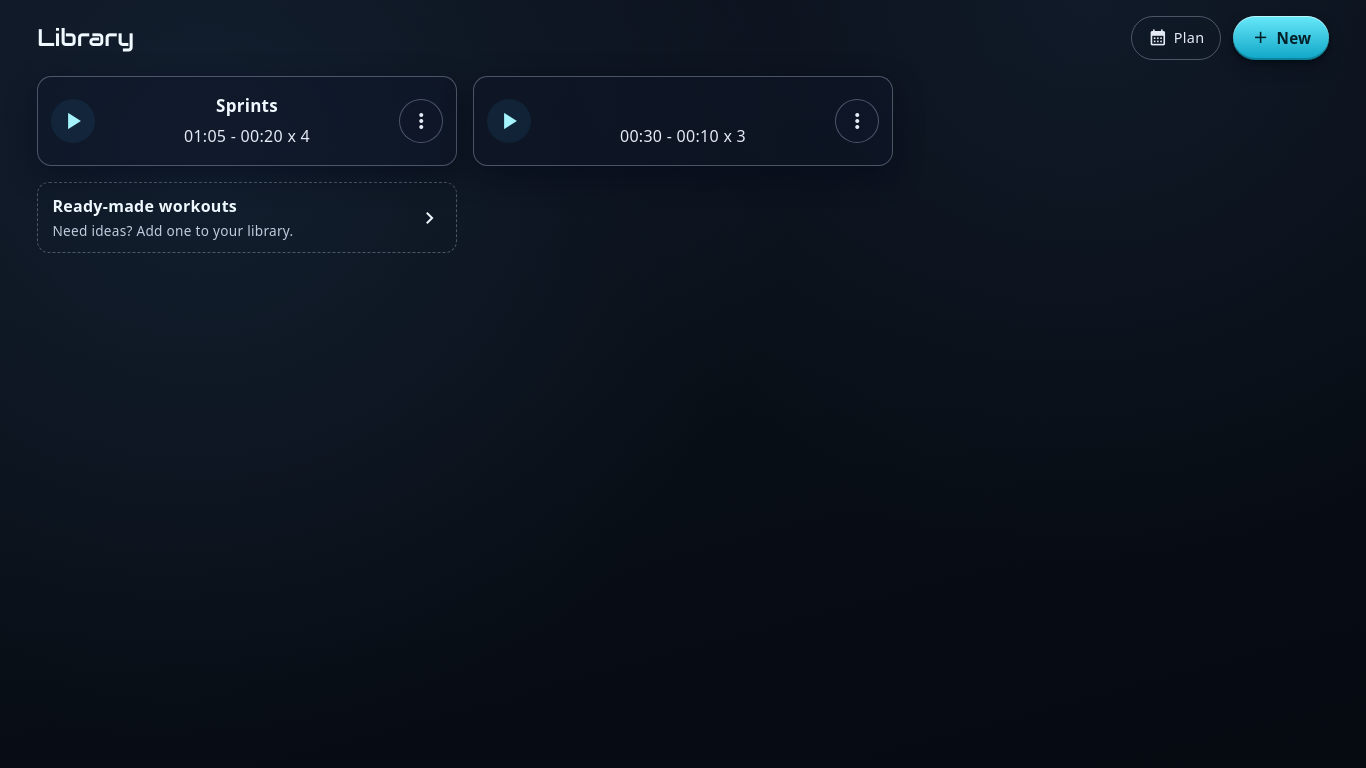
it: WorkoutLibraryComponent › with workouts › details › opens from its options, saying when it hasn't been done yet
Step 1. Click the 1st button with class "workout-card__action--menu" → x=421, y=121, box [399, 99, 443, 143]
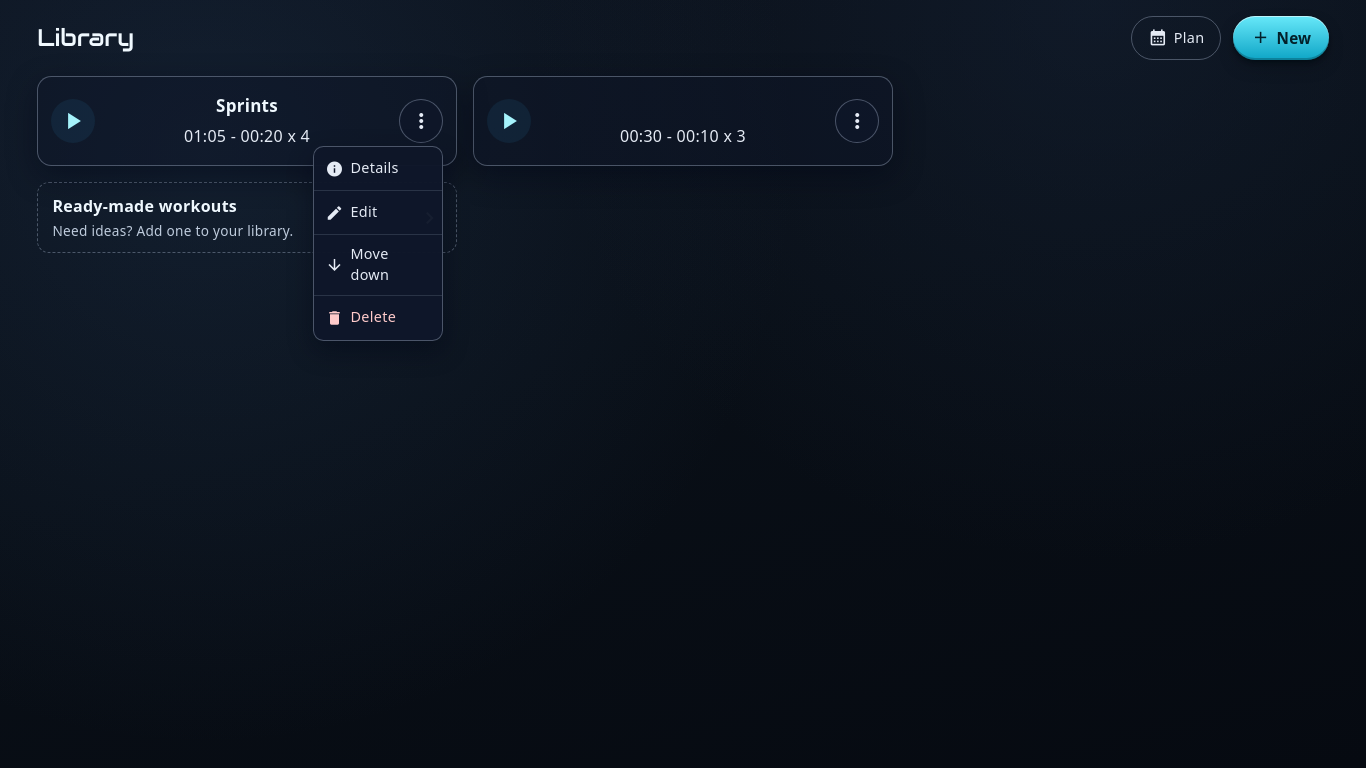
Check: the button with class "workout-card__menu-item--details" is shown
Step 2. Click the button with class "workout-card__menu-item--details" → x=378, y=169, box [314, 147, 442, 191]
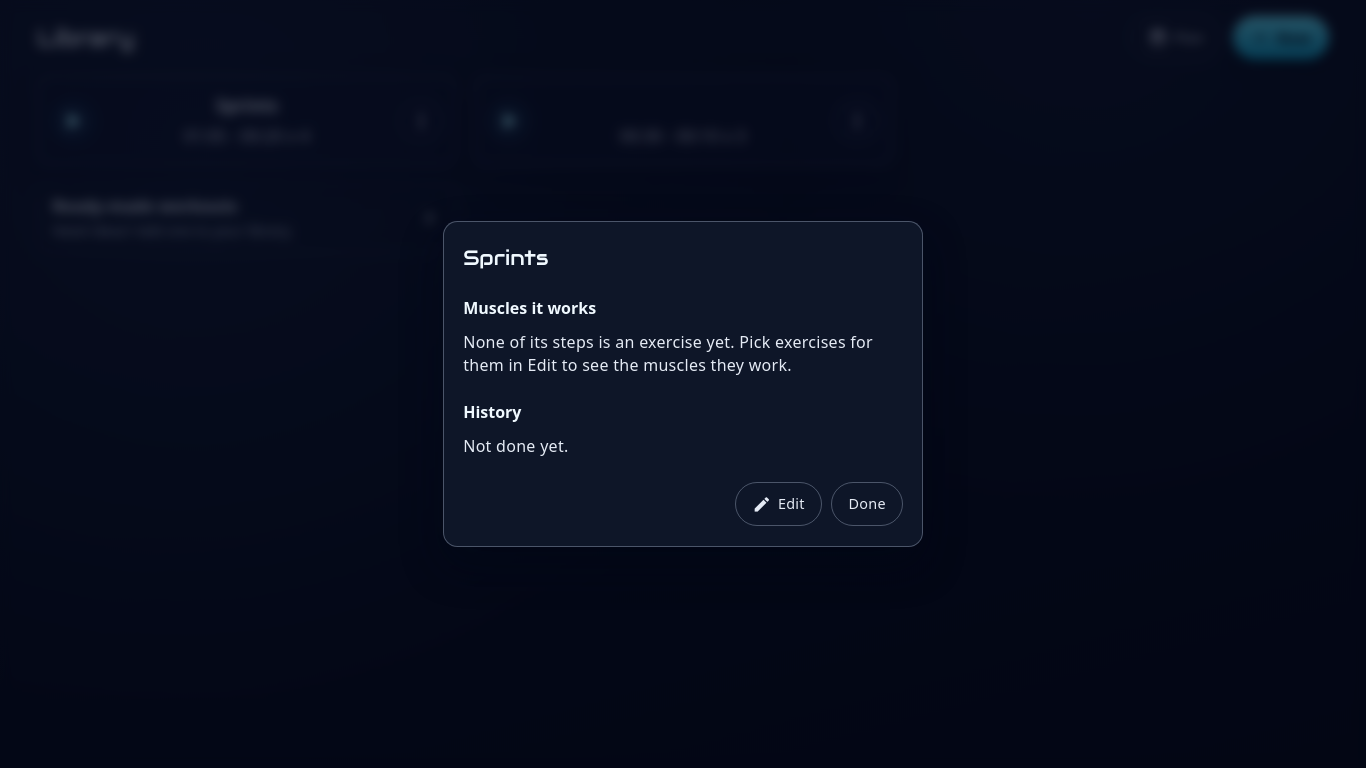
Check: the dialog shows "Sprints", box [463, 244, 548, 271]
Check: the dialog shows "Not done yet.", box [463, 435, 568, 457]
Check: the dialog shows "None of its steps is an exercise yet", box [463, 331, 873, 376]
